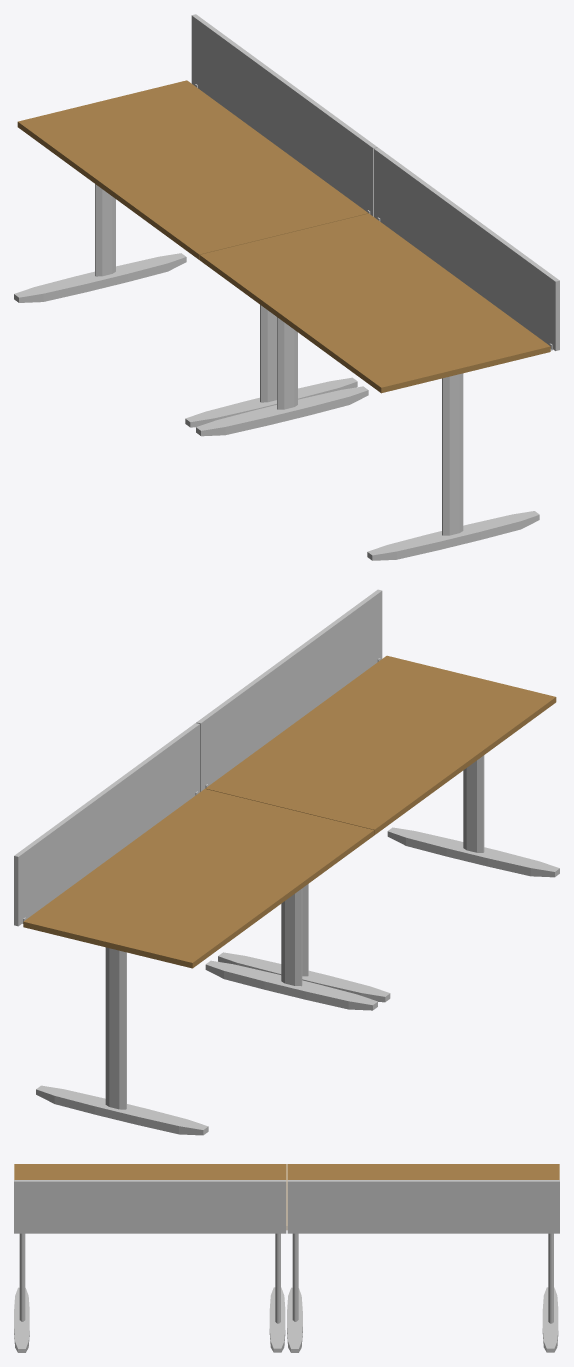
File: ScrivaniaOfficina1.dae
3 views of the same model, one above another, from view 1: azimuth 30°, elevation 25°; view 2: azimuth 150°, elevation 25°; view 3: azimuth 270°, elevation 25° (orthographic). The views are drawn at different scales.
Parts seen in each view (by area): view 1: Sscrivania_001, Sscrivania_003, Sscrivania_005_004, Sscrivania_004_004; view 2: Sscrivania_003, Sscrivania_001, Sscrivania_004_004, Sscrivania_005_004; view 3: Sscrivania_005_004, Sscrivania_004_004, Sscrivania_003, Sscrivania_001.
Boxes of the visible parts, x1=… form: Sscrivania_001: x1=196, y1=213, x2=550, y2=560; Sscrivania_003: x1=14, y1=80, x2=368, y2=427; Sscrivania_005_004: x1=374, y1=147, x2=559, y2=350; Sscrivania_004_004: x1=191, y1=14, x2=377, y2=216; Sscrivania_003: x1=23, y1=789, x2=377, y2=1135; Sscrivania_001: x1=205, y1=655, x2=559, y2=1002; Sscrivania_004_004: x1=14, y1=723, x2=199, y2=926; Sscrivania_005_004: x1=196, y1=589, x2=382, y2=791; Sscrivania_005_004: x1=14, y1=1180, x2=286, y2=1233; Sscrivania_004_004: x1=287, y1=1180, x2=559, y2=1233; Sscrivania_003: x1=287, y1=1164, x2=559, y2=1352; Sscrivania_001: x1=14, y1=1164, x2=286, y2=1352.
Size of the model in its own units: 0.8267 by 2.81 by 1.02.
